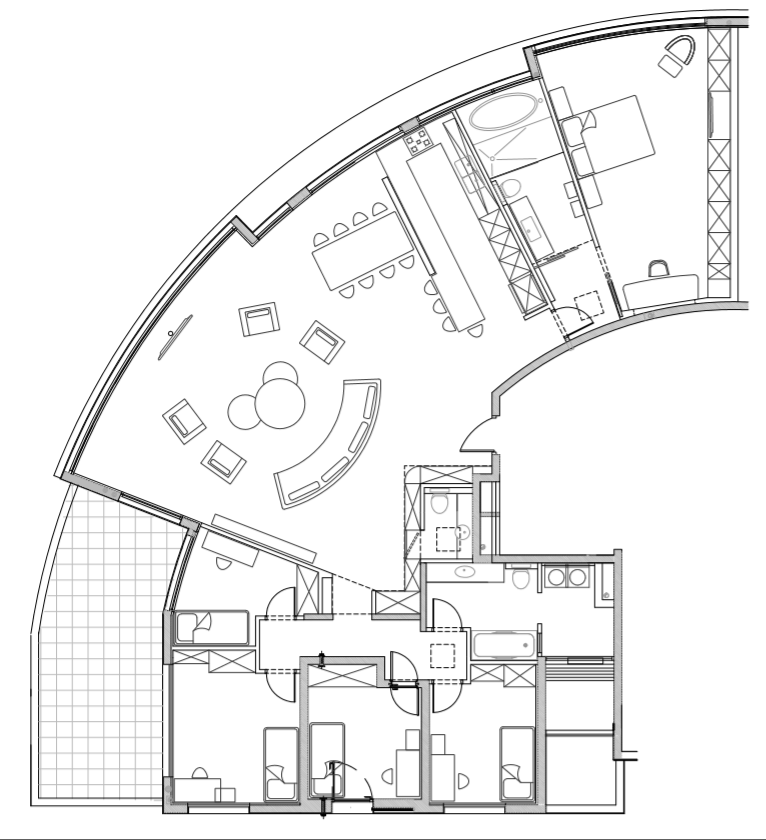door: (452, 412, 514, 465), (540, 301, 596, 340), (261, 662, 299, 711), (380, 643, 423, 686), (260, 584, 300, 621), (425, 596, 463, 633), (387, 686, 426, 718)
window: (301, 120, 409, 207), (111, 487, 185, 535), (249, 199, 297, 248), (182, 798, 260, 822)
